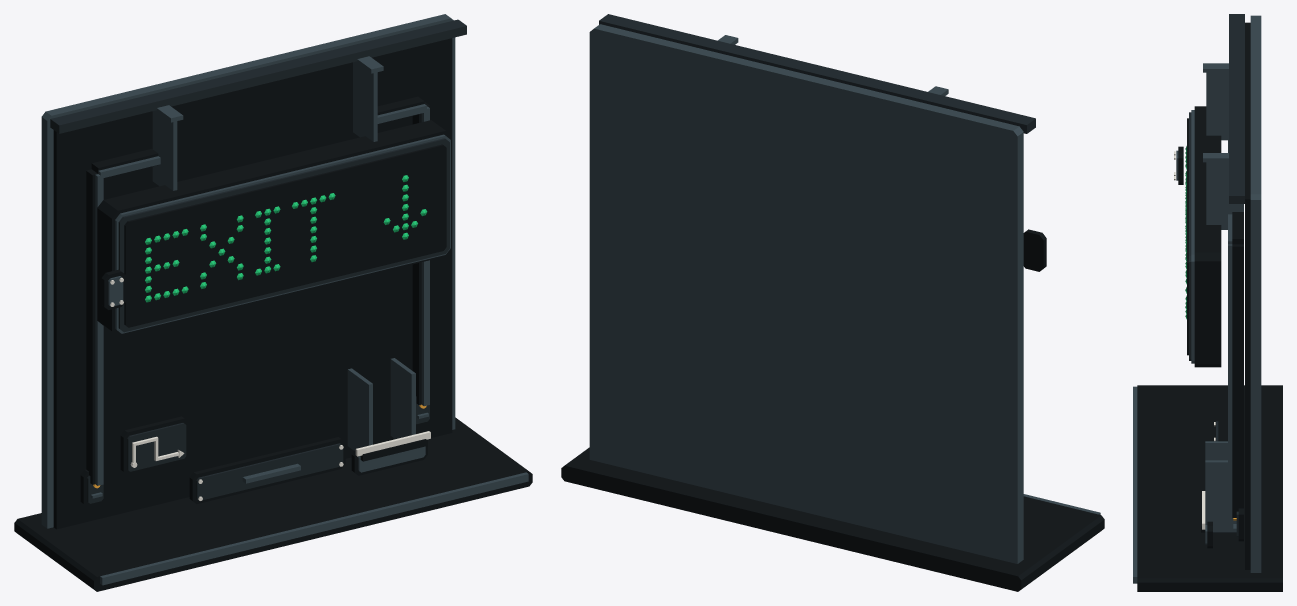
The picture shows the model from 3 angles, left to right: view 1: azimuth 30°, elevation 25°; view 2: azimuth 150°, elevation 25°; view 3: azimuth 270°, elevation 25°; orthographic projection. The views are drawn at different scales.
Parts seen in each view (by area): view 1: Exit Liquidity sign; view 2: Exit Liquidity sign; view 3: Exit Liquidity sign.
Part boxes in pixels (x1,y1,x2,y2): Exit Liquidity sign: [14, 14, 532, 591]; Exit Liquidity sign: [561, 14, 1104, 591]; Exit Liquidity sign: [1133, 14, 1282, 591].
Size of the model in its own units: 1.08 by 1 by 0.3475.
